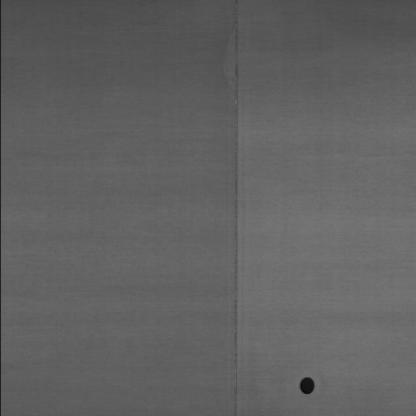punching_hole: (292, 367, 320, 397)
welding_line: (220, 0, 253, 413)
